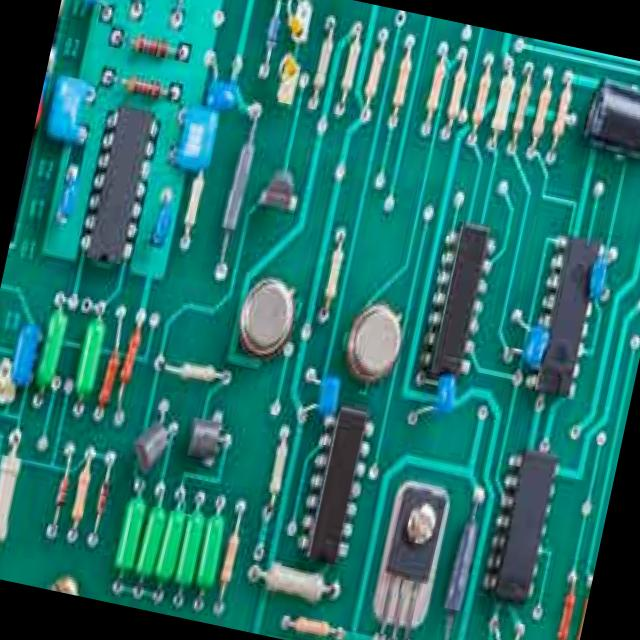IC: (72, 95, 170, 272), (416, 214, 502, 393), (476, 446, 569, 608), (292, 402, 378, 570)
